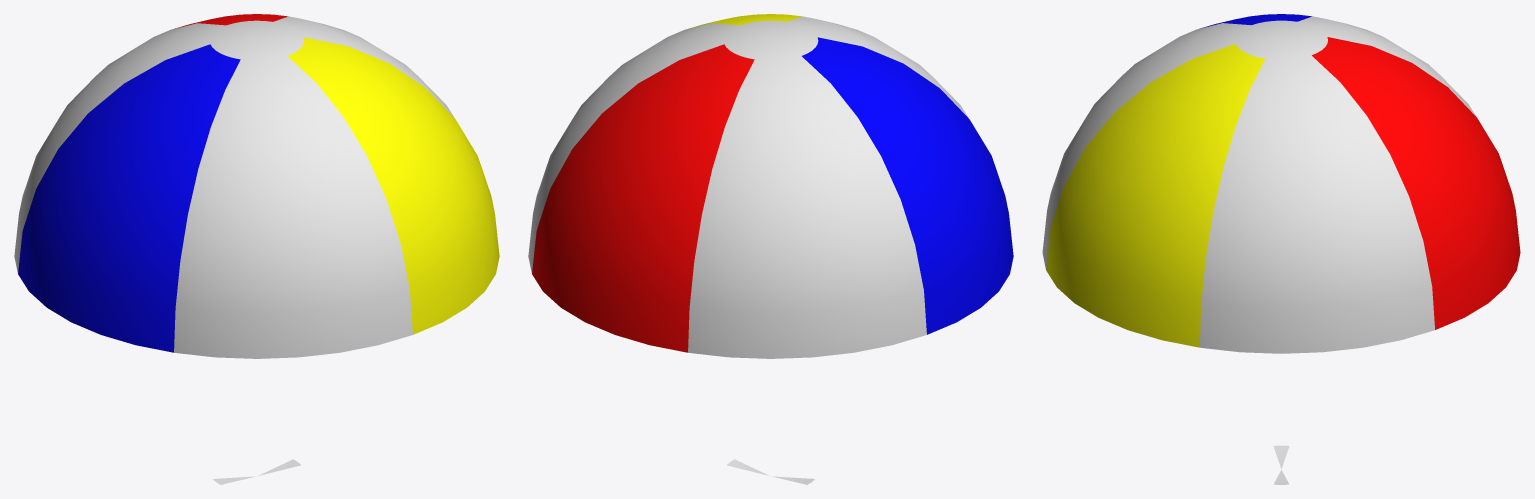
File: beachball.glb
3 views of the same model, side by side, from view 1: azimuth 30°, elevation 25°; view 2: azimuth 150°, elevation 25°; view 3: azimuth 270°, elevation 25° (orthographic).
Parts seen in each view (by area): view 1: Sphere; view 2: Sphere; view 3: Sphere.
Part boxes in pixels (bbox=[...]): Sphere: bbox=[14, 14, 499, 484]; Sphere: bbox=[528, 14, 1013, 484]; Sphere: bbox=[1042, 14, 1520, 484].
Size of the model in its own units: 2 by 2 by 2.
